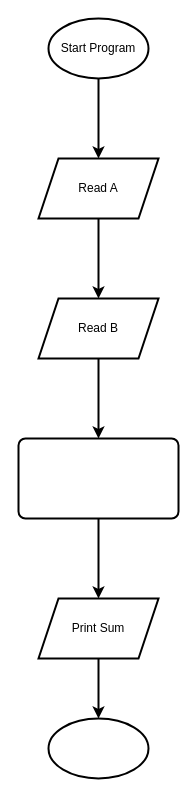
Some shapes in this 196 by 796 pixel diagram are drawn without their labels. The shapes that lost their labels are listed below. From the top down, each one's centre as x and y in pixels, then its label:
At (x=98, y=478): "Calculate Sum as A + B".
At (x=98, y=748): "End Program".
